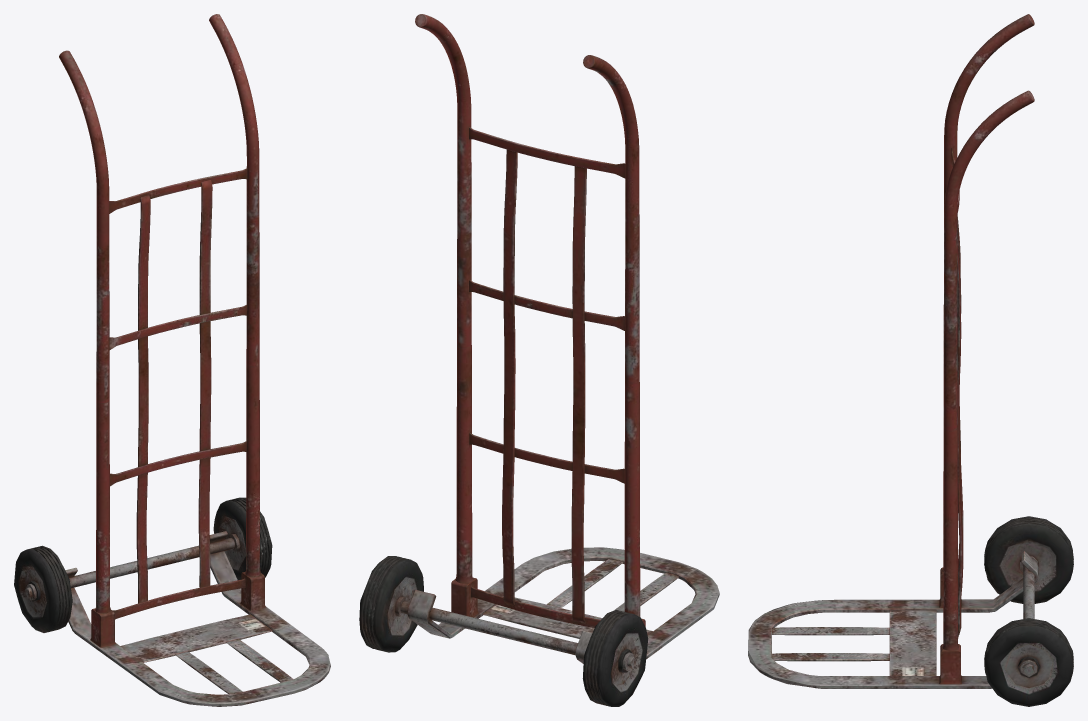
The model's file is hand_truck.glb.
The picture shows the model from 3 angles, left to right: view 1: azimuth 30°, elevation 25°; view 2: azimuth 150°, elevation 25°; view 3: azimuth 270°, elevation 25°; orthographic projection. The views are drawn at different scales.
Parts seen in each view (by area): view 1: hand_truck; view 2: hand_truck; view 3: hand_truck.
Part boxes in pixels (x1,y1,x2,y2): hand_truck: [14, 14, 330, 706]; hand_truck: [359, 14, 719, 706]; hand_truck: [748, 14, 1073, 706].
Size of the model in its own units: 0.5932 by 1.4 by 0.6923.
1 material, 1 textured.
